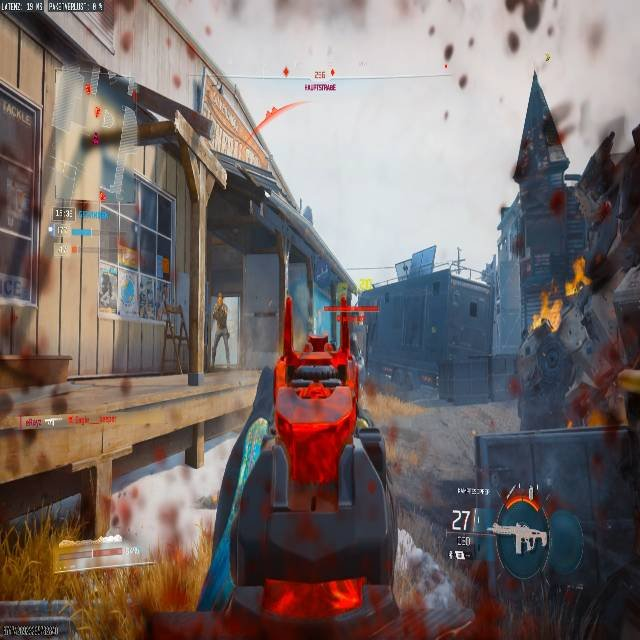player: (210, 296, 230, 359)
